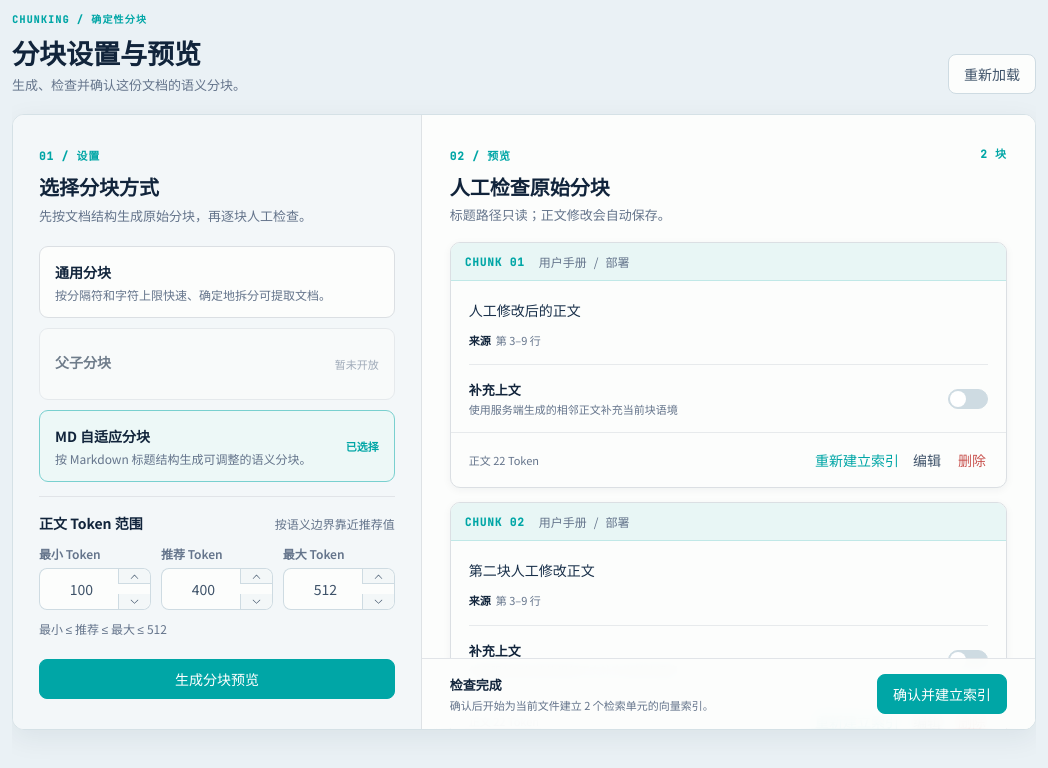
ChunkingWorkspace › owns the file mutation barrier while edited-draft regeneration confirmation is pending
This screenshot has width=1048, height=768.
Click the button with test id "create-preview": {"x": 217, "y": 679} x1=39 y1=659 x2=395 y2=699
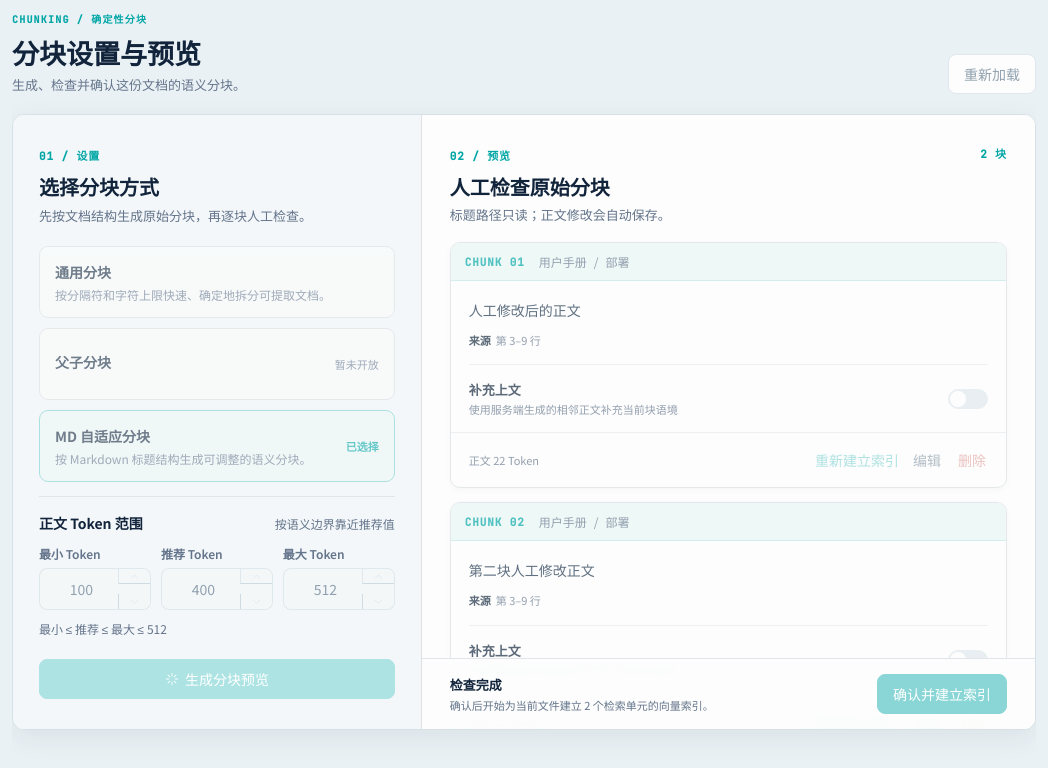
expect the button with test id "create-preview" is disabled: met, box x1=39 y1=659 x2=395 y2=699
expect the button with test id "open-confirm" is disabled: met, box x1=877 y1=674 x2=1007 y2=714
